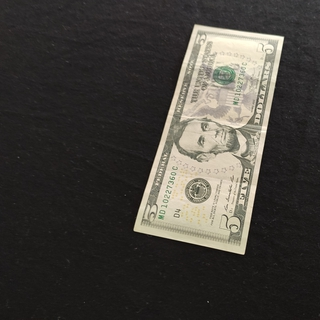5USDFront: (132, 23, 285, 256)
